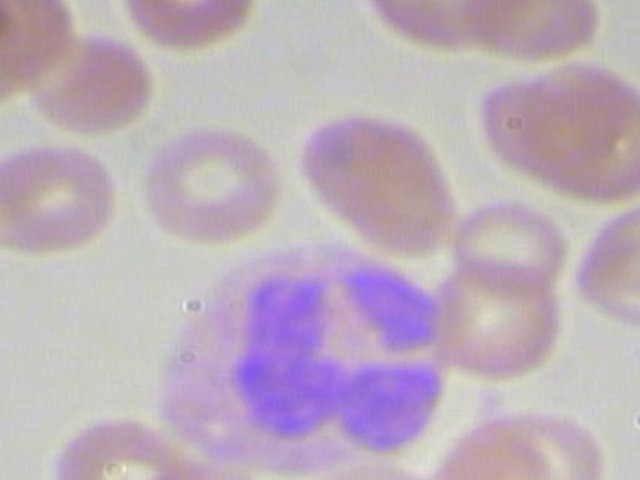RBC: (286, 106, 469, 268), (128, 122, 291, 258), (513, 56, 640, 203), (431, 253, 565, 386), (22, 25, 160, 139), (0, 143, 117, 256), (439, 196, 573, 289), (457, 0, 607, 63), (114, 0, 269, 55), (574, 234, 640, 337)
WBC: (146, 233, 465, 472)
